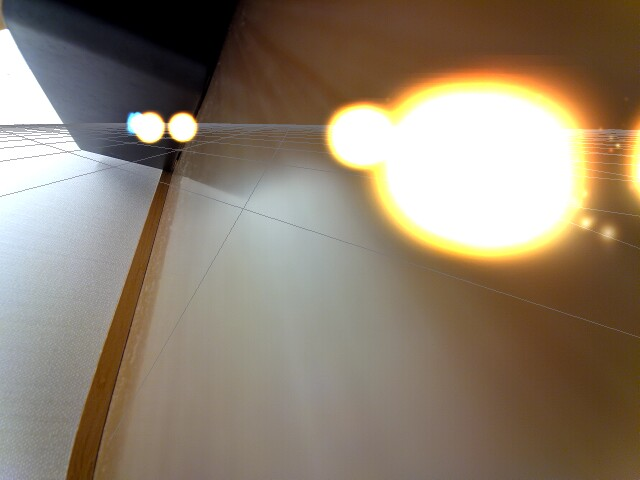firebig: (279, 41, 594, 283)
